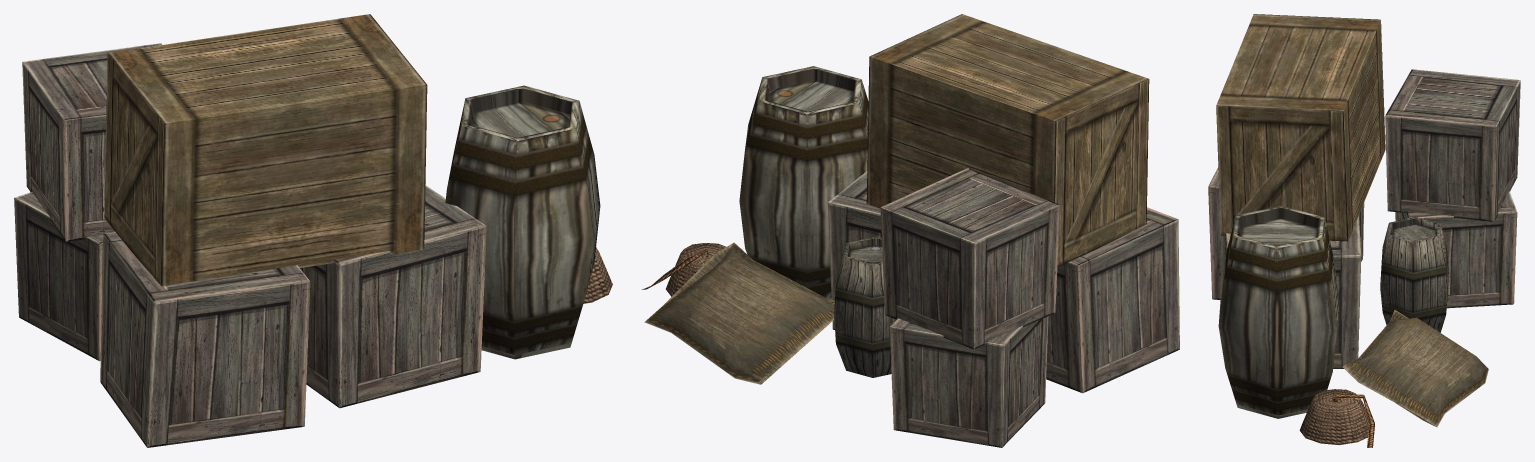
The model's file is prop_group_G.fbx.
3 views of the same model, side by side, from view 1: azimuth 30°, elevation 25°; view 2: azimuth 150°, elevation 25°; view 3: azimuth 270°, elevation 25° (orthographic). The views are drawn at different scales.
Parts seen in each view (by area): view 1: crate48_high, barrel_high, crate_sides.003, crate_sides.002, crate_sides.001, crate_sides, crate_top.001, crate_top.003, crate_top.002, pile_1; view 2: crate48_high, barrel_high, crate_sides.001, crate_sides.003, crate_sides, sack_high, crate_top.001, barrel_high1, crate_sides.002, pile_1, crate_top.003, crate_top.002 (+1 smaller); view 3: crate48_high, barrel_high, crate_sides.001, sack_high, barrel_high1, crate_sides, crate_top.001, pile_1, crate_sides.002, crate_sides.003, crate_top.002, rope_1 (+1 smaller).
Part boxes in pixels (x1,y1,x2,y2): crate48_high: [104, 14, 427, 286]; barrel_high: [445, 85, 600, 359]; crate_sides.003: [100, 234, 310, 447]; crate_sides.002: [300, 226, 486, 408]; crate_sides.001: [22, 62, 114, 241]; crate_sides: [14, 198, 102, 361]; crate_top.001: [22, 43, 161, 119]; crate_top.003: [103, 231, 309, 302]; crate_top.002: [333, 185, 485, 263]; pile_1: [583, 247, 612, 303]; crate48_high: [866, 14, 1149, 266]; barrel_high: [739, 66, 868, 299]; crate_sides.001: [880, 205, 1059, 349]; crate_sides.003: [1046, 219, 1179, 393]; crate_sides: [889, 316, 1048, 447]; sack_high: [644, 242, 834, 384]; crate_top.001: [881, 168, 1059, 243]; barrel_high1: [834, 236, 896, 377]; crate_sides.002: [828, 202, 881, 329]; pile_1: [666, 243, 725, 296]; crate_top.003: [1069, 207, 1177, 265]; crate_top.002: [828, 171, 880, 214]; crate48_high: [1216, 14, 1385, 241]; barrel_high: [1218, 205, 1339, 418]; crate_sides.001: [1385, 81, 1520, 221]; sack_high: [1342, 310, 1488, 427]; barrel_high1: [1380, 217, 1448, 332]; crate_sides: [1395, 212, 1517, 308]; crate_top.001: [1385, 69, 1520, 126]; pile_1: [1299, 389, 1368, 445]; crate_sides.002: [1225, 235, 1361, 368]; crate_sides.003: [1208, 186, 1364, 299]; crate_top.002: [1226, 215, 1361, 256]; rope_1: [1332, 393, 1374, 447].
Bounding box in the file's own units: 1632 × 967 × 1065.
Materials: 2 (2 with a texture image).
